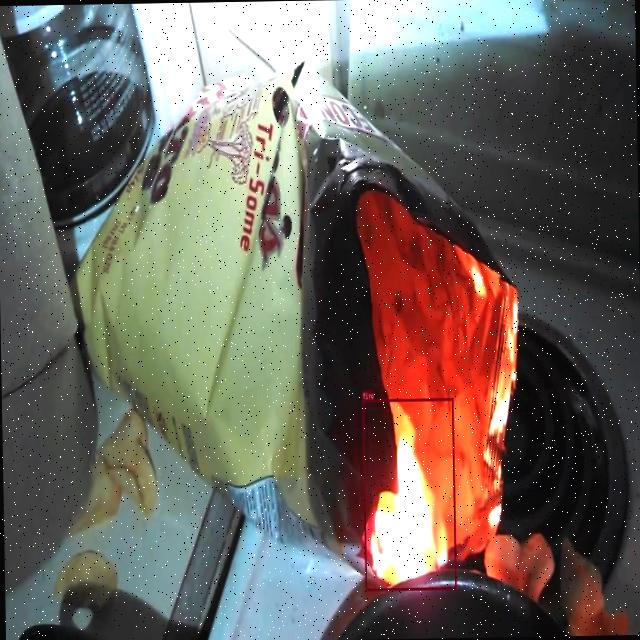fire: (362, 397, 455, 590)
